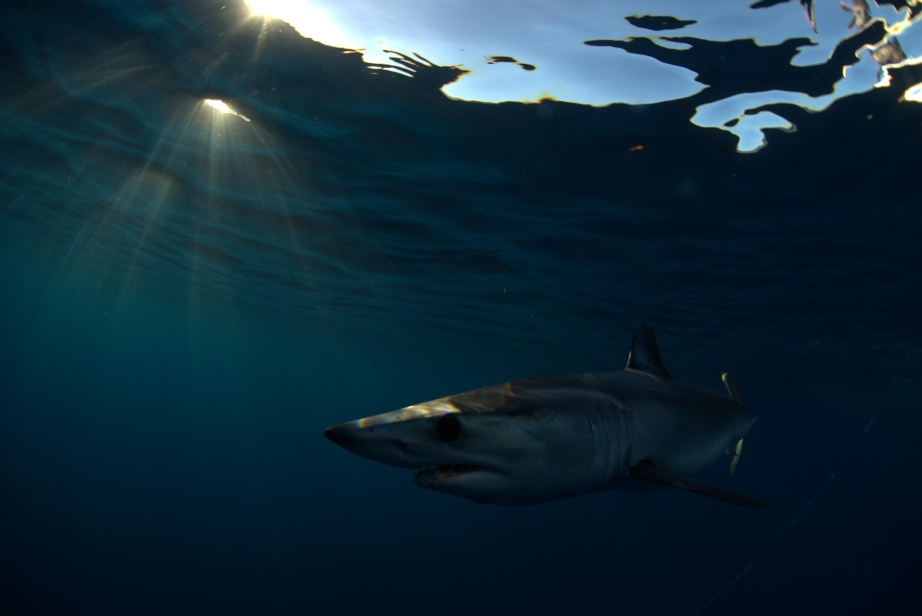Mako: (306, 319, 787, 528)
